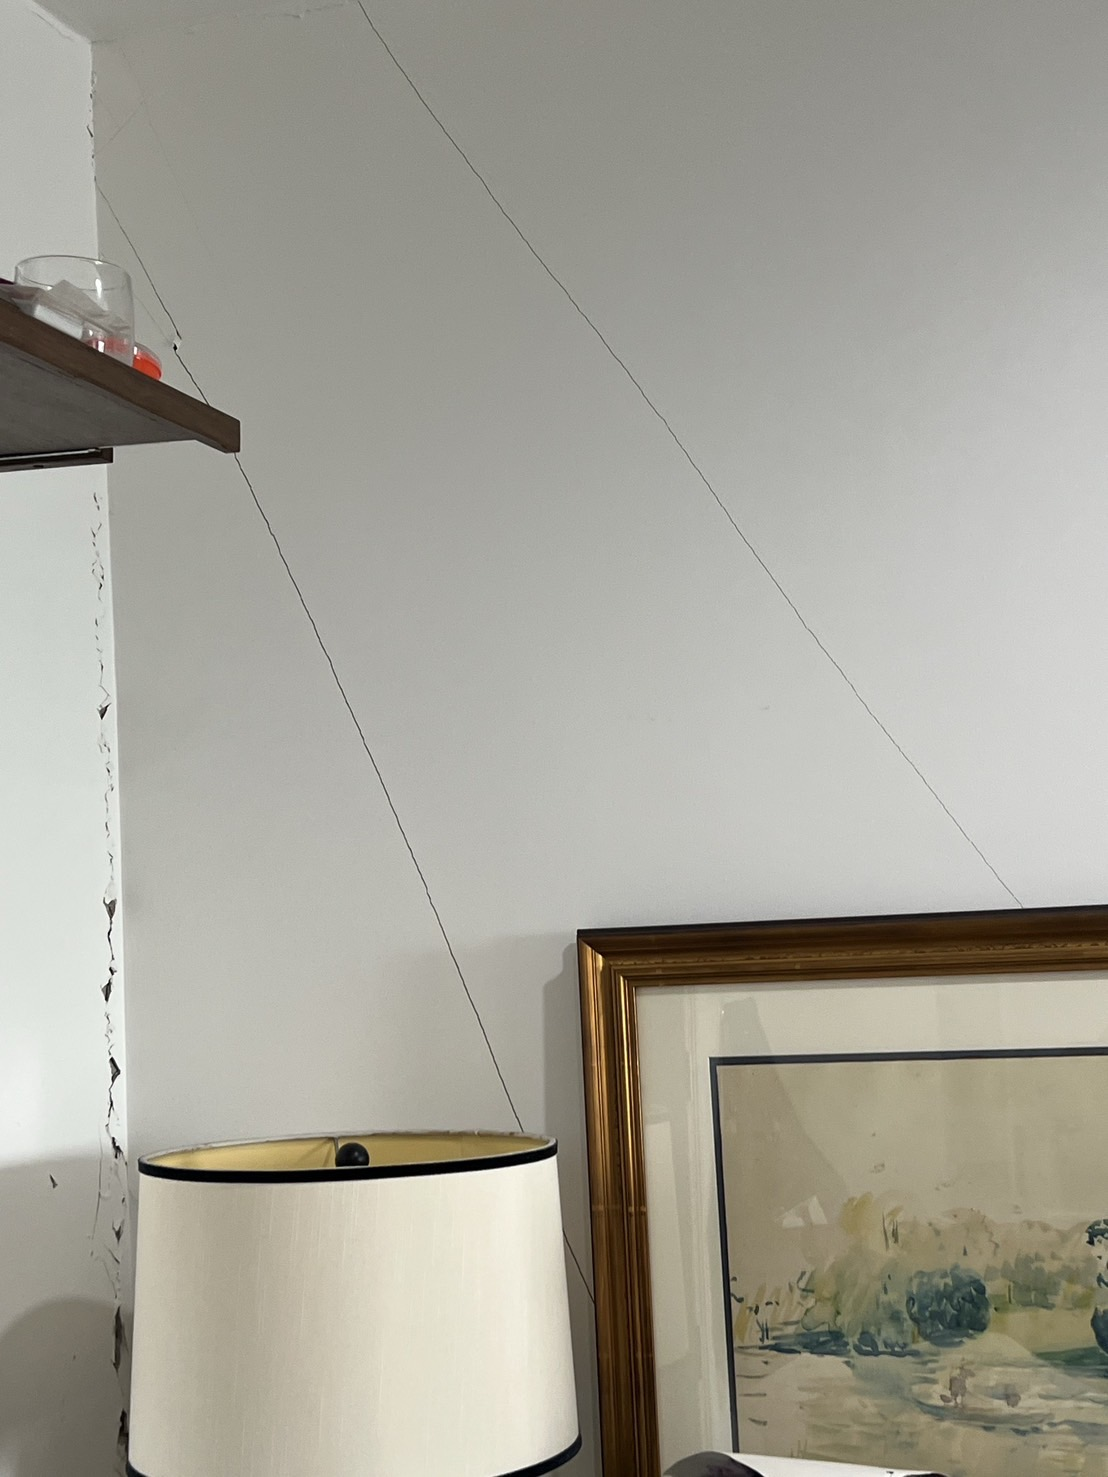Low: (340, 2, 1061, 908)
